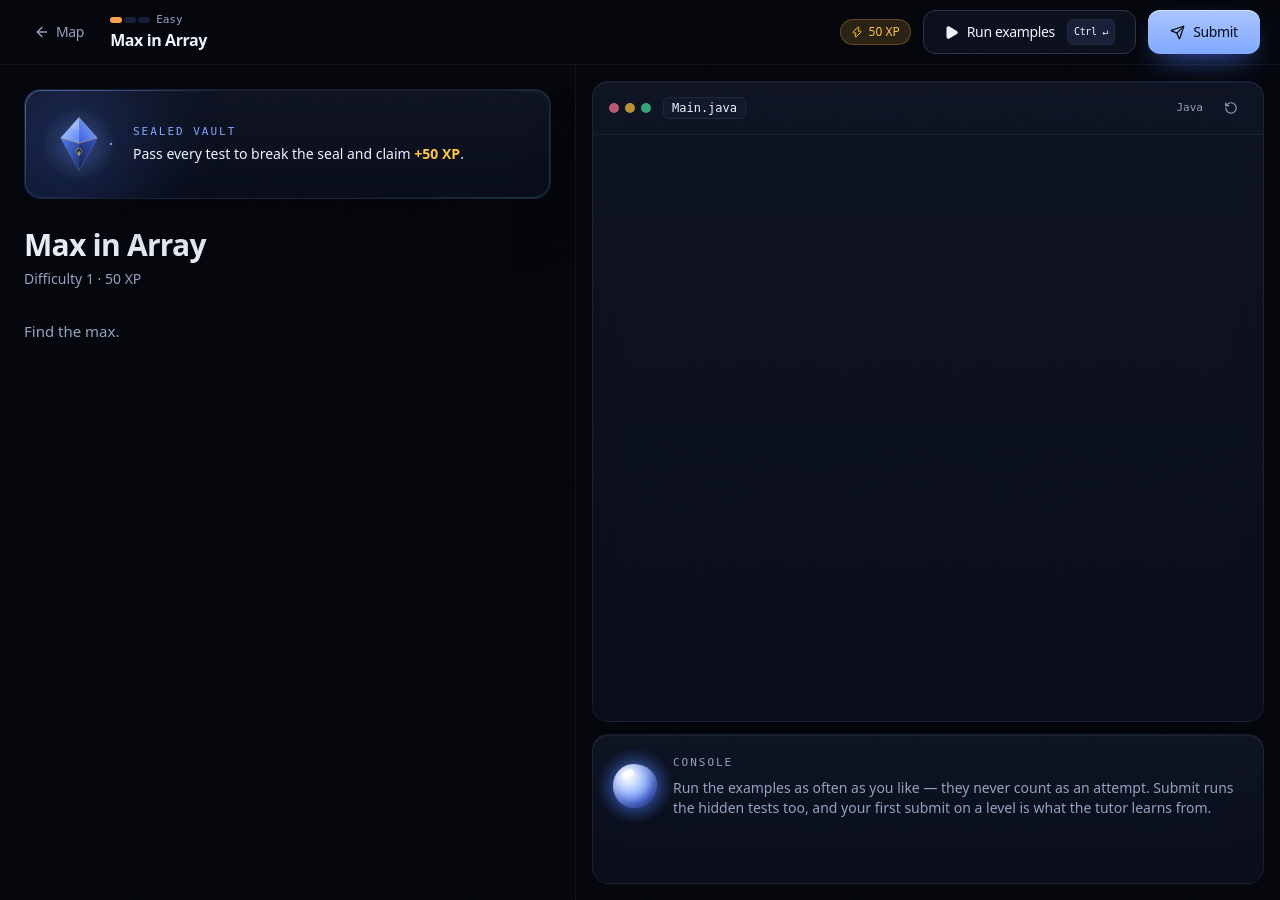
Test: PlayScreen › asks for a solution when the untouched starter code is submitted
This screenshot has width=1280, height=900.
Expected: the heading "Max in Array" is shown, [24,224,206,265]
Click the button "Submit": (1204, 32) [1148,10,1260,54]
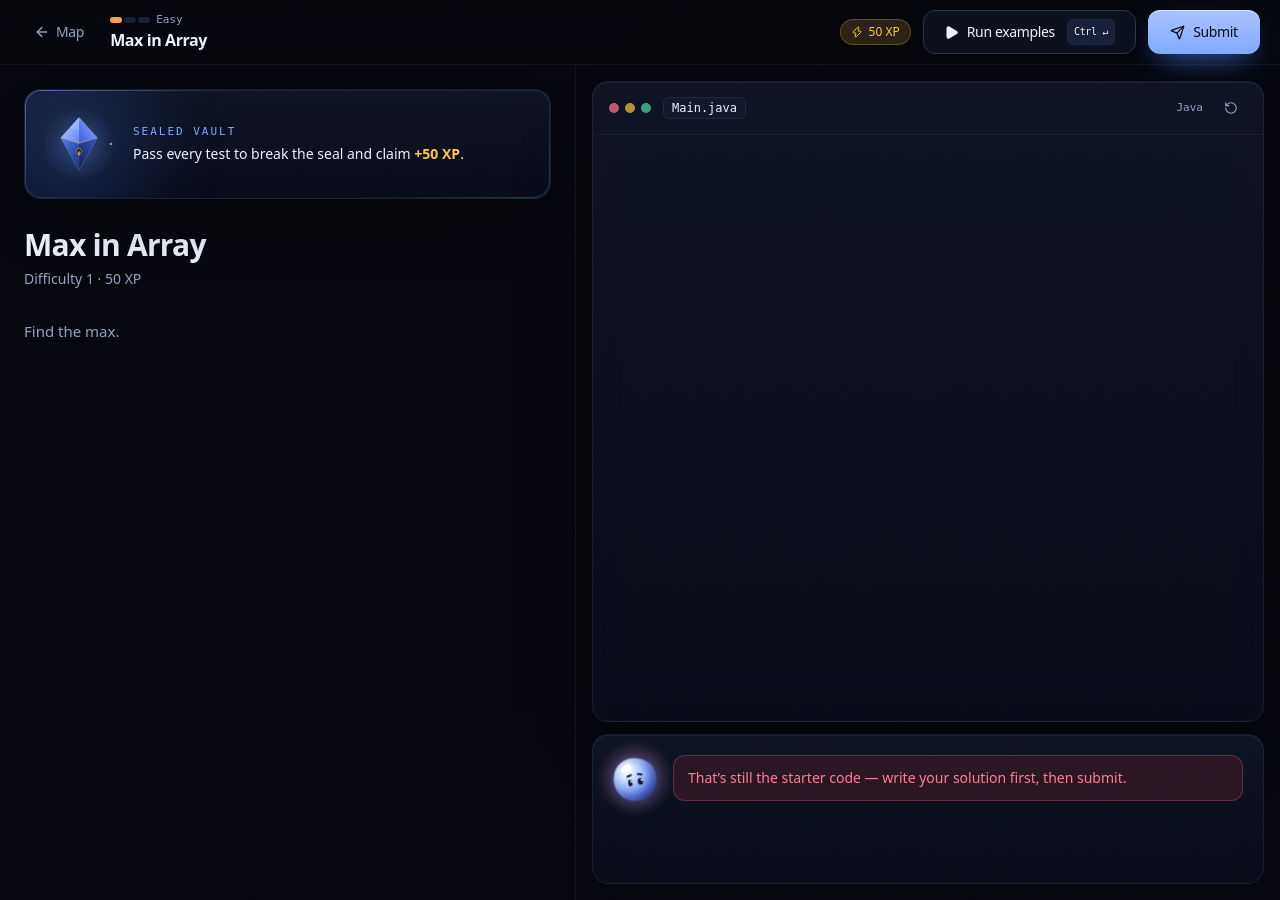
Expected: the text "That’s still the starter code — write your solution first, then submit." is shown, [673,755,1243,801]
